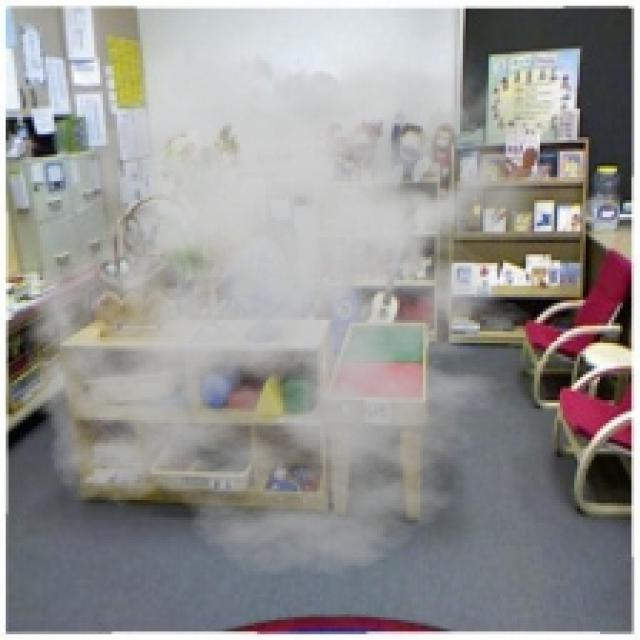Smoke: (2, 25, 568, 578)
